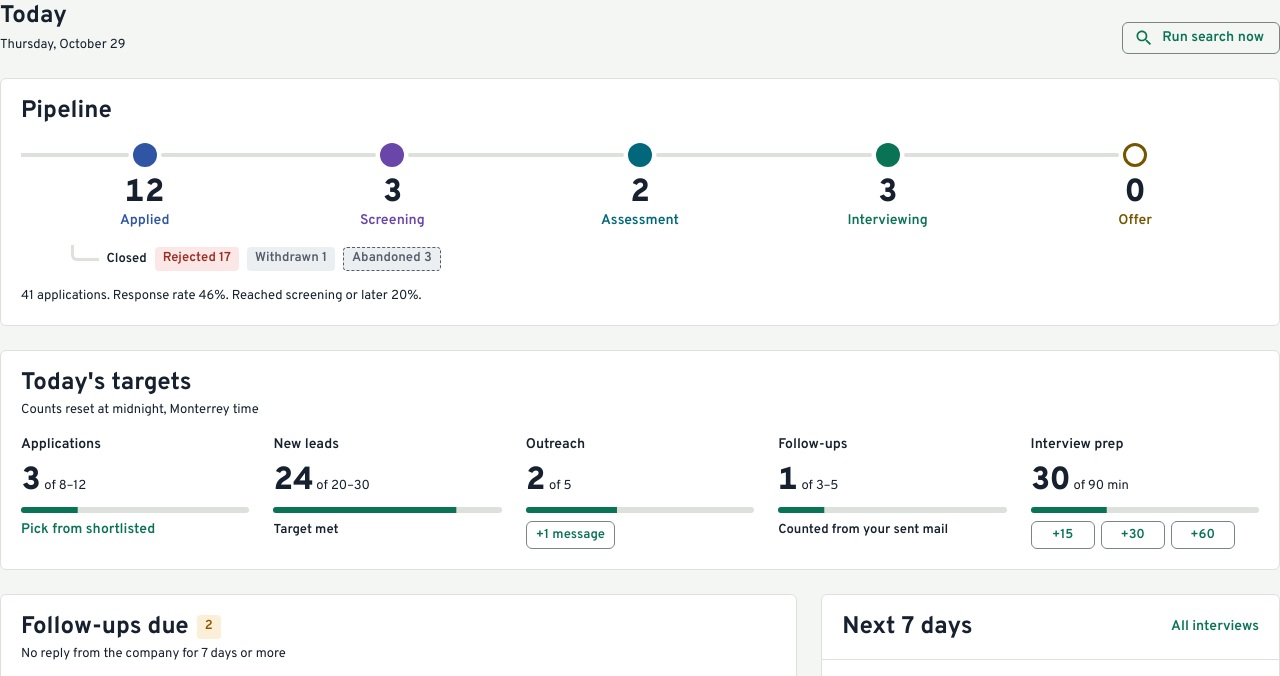
it: TodayPage › says so when logging fails, and leaves the count alone
The image size is (1280, 676).
What coordinates should you click on to do the following:
click the button "+1 message"
I would click on:
 (570, 535)
Its box is x1=526 y1=521 x2=615 y2=549.
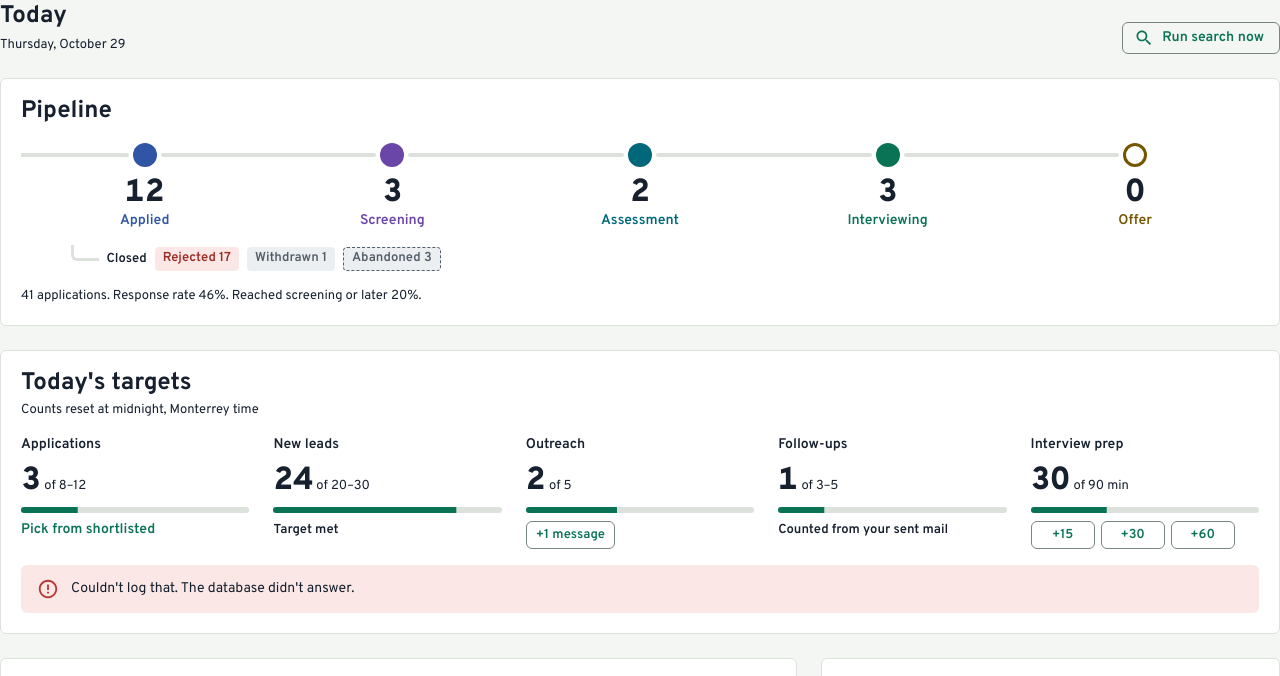
Result: the message shows "Couldn't log that." at x1=71 y1=580 x2=354 y2=597
